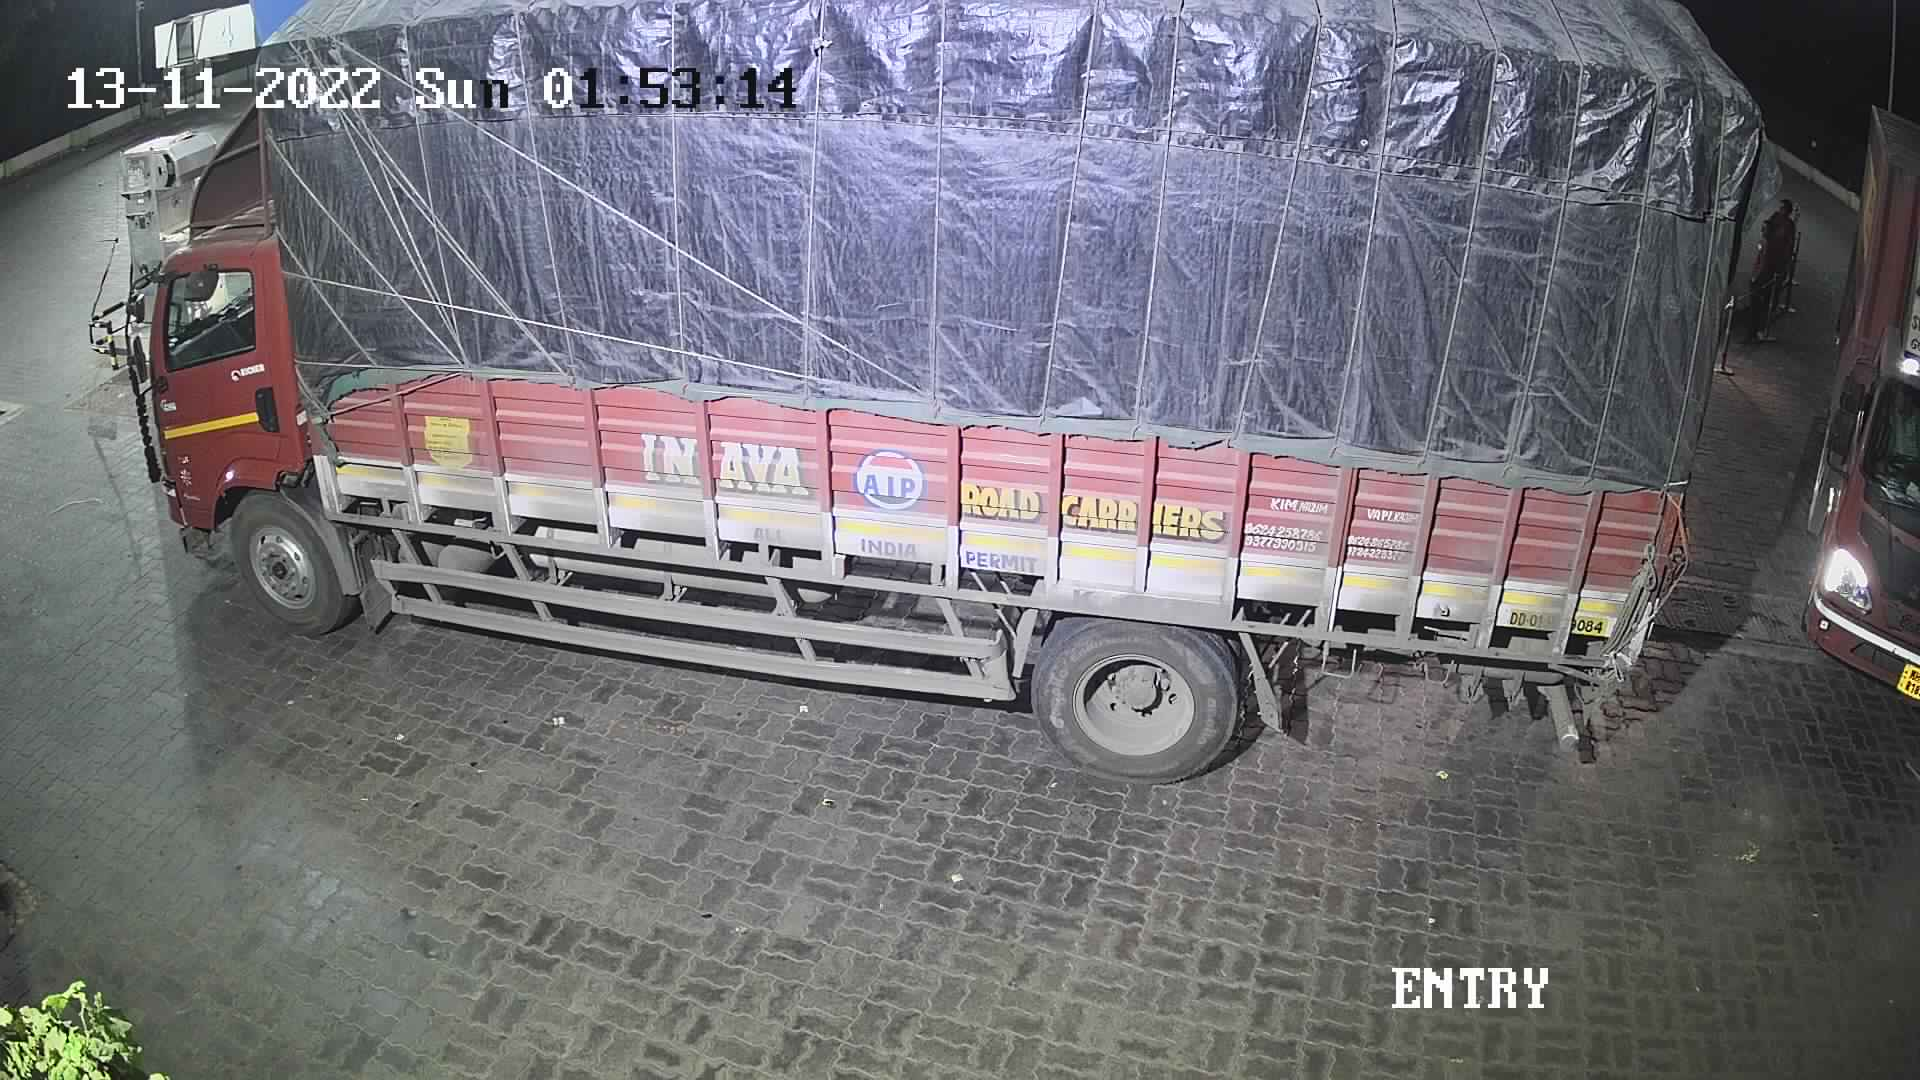HMV: (113, 0, 1778, 793), (1780, 88, 1917, 752)
